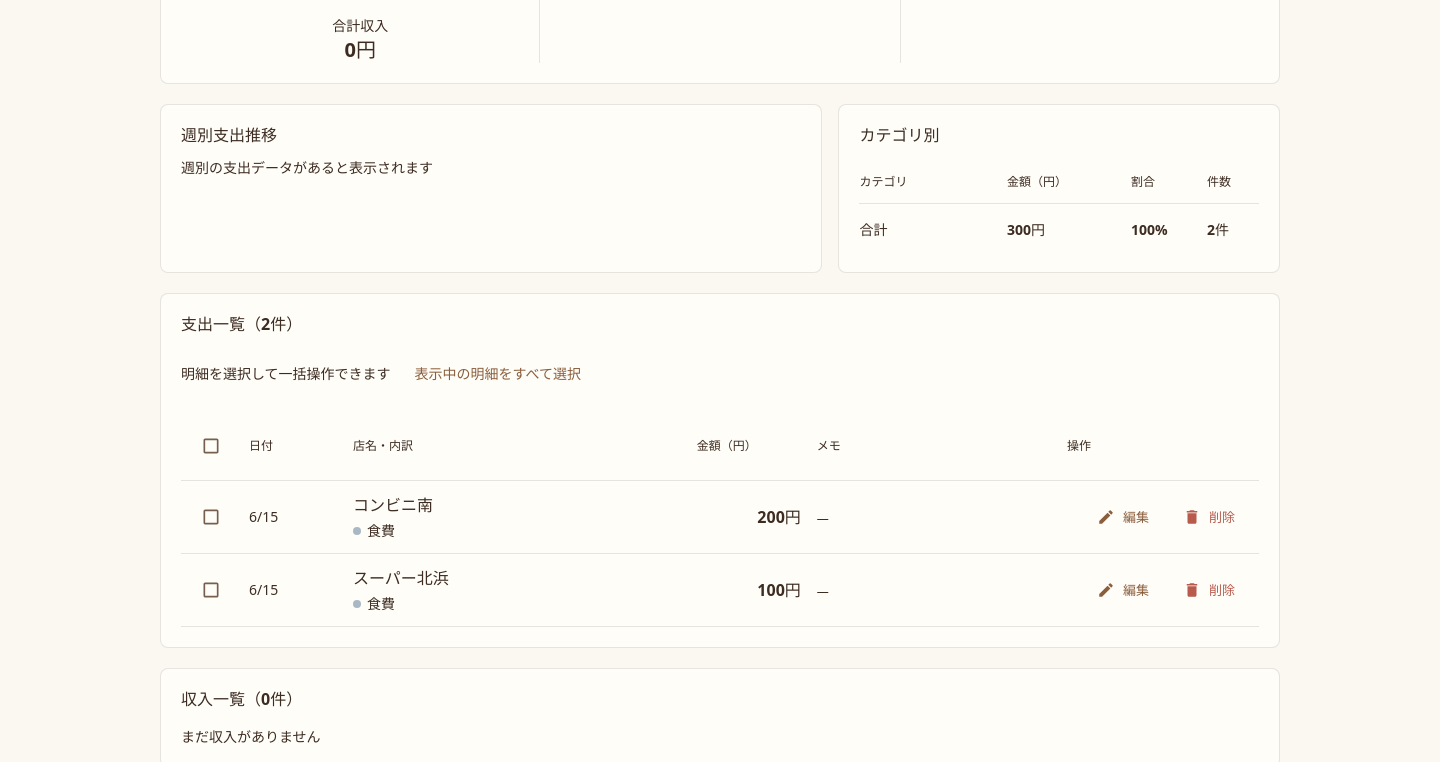
Test: SummaryPage › 削除に失敗した場合はエラーを表示する
This screenshot has width=1440, height=762.
(page scrolled)
Click the button "削除" in the row of "コンビニ南". click: (1210, 517)
box: [1169, 495, 1251, 539]
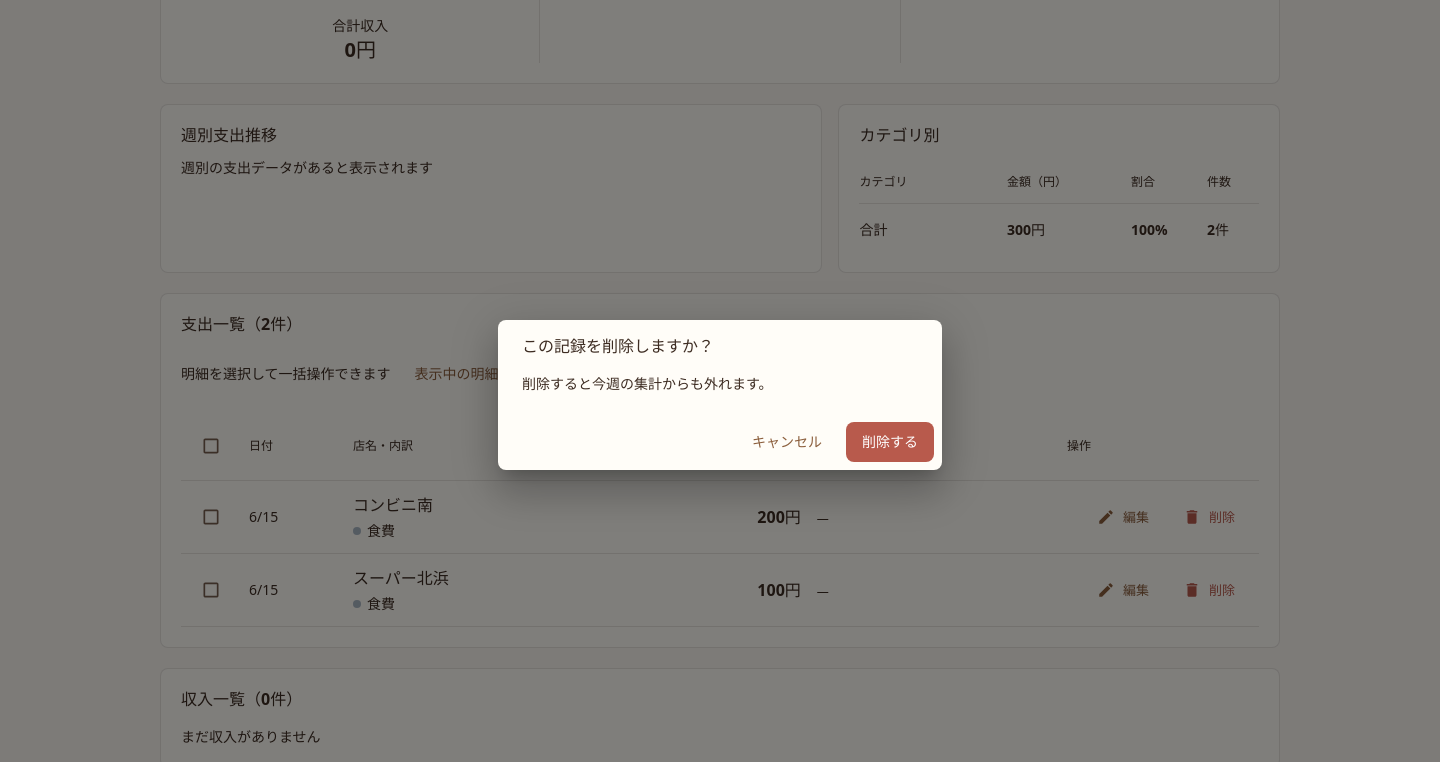
Click the button "削除する". click: (890, 442)
box: [846, 422, 934, 462]
(page scrolled)
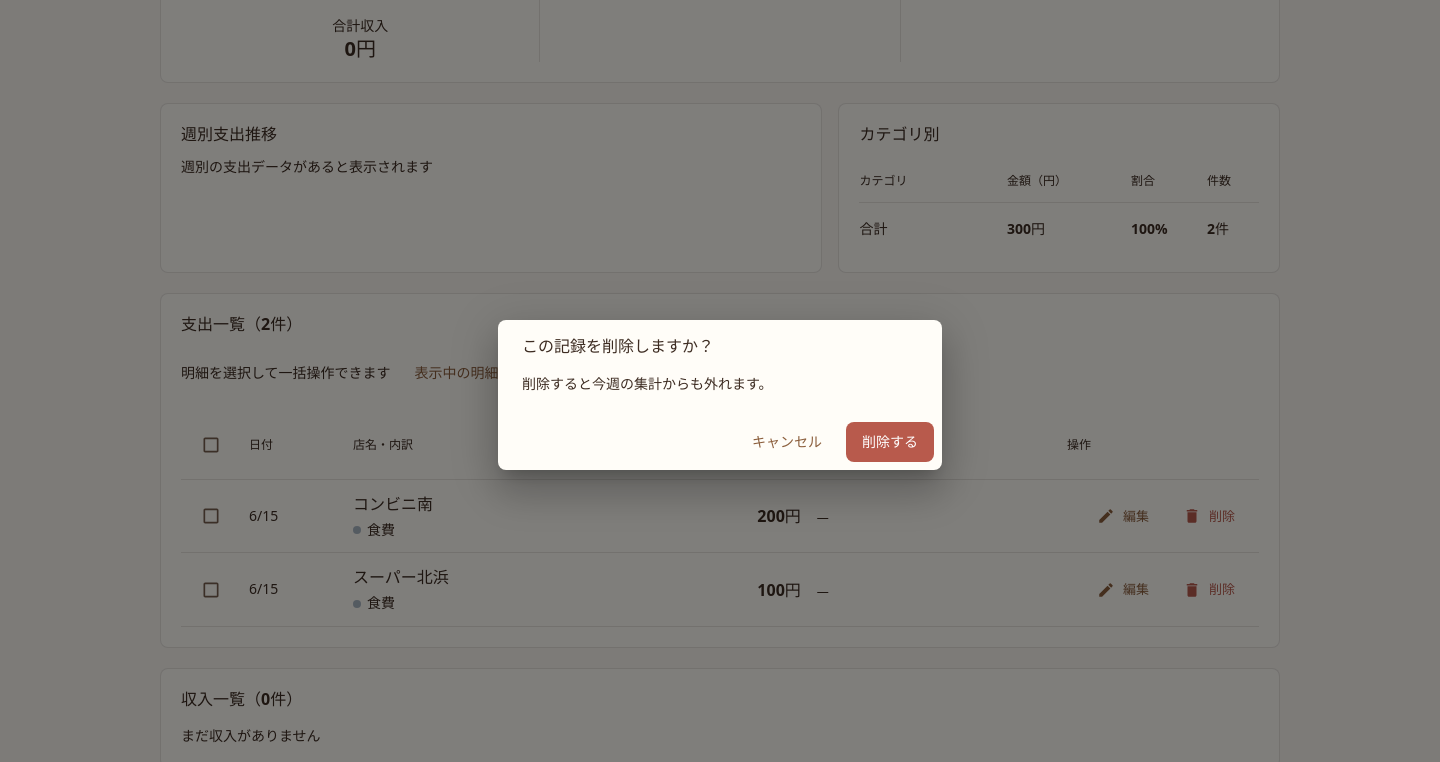
Click the button "キャンセル". click: (787, 442)
box: [736, 422, 838, 462]
(page scrolled)
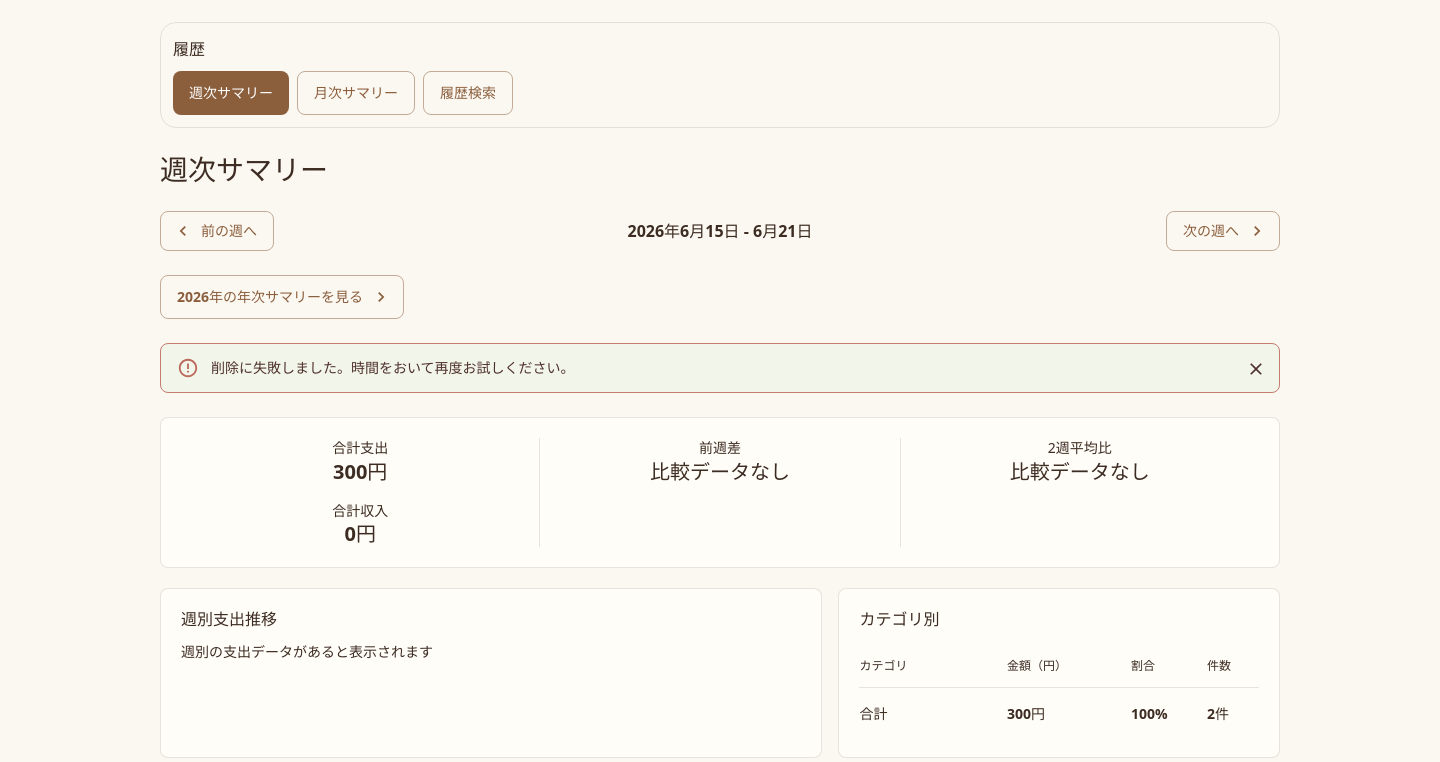
Check: the button named "Close" is shown
Check: the dialog is gone
Click the button named "Close". click: (1256, 369)
box: [1241, 354, 1271, 384]
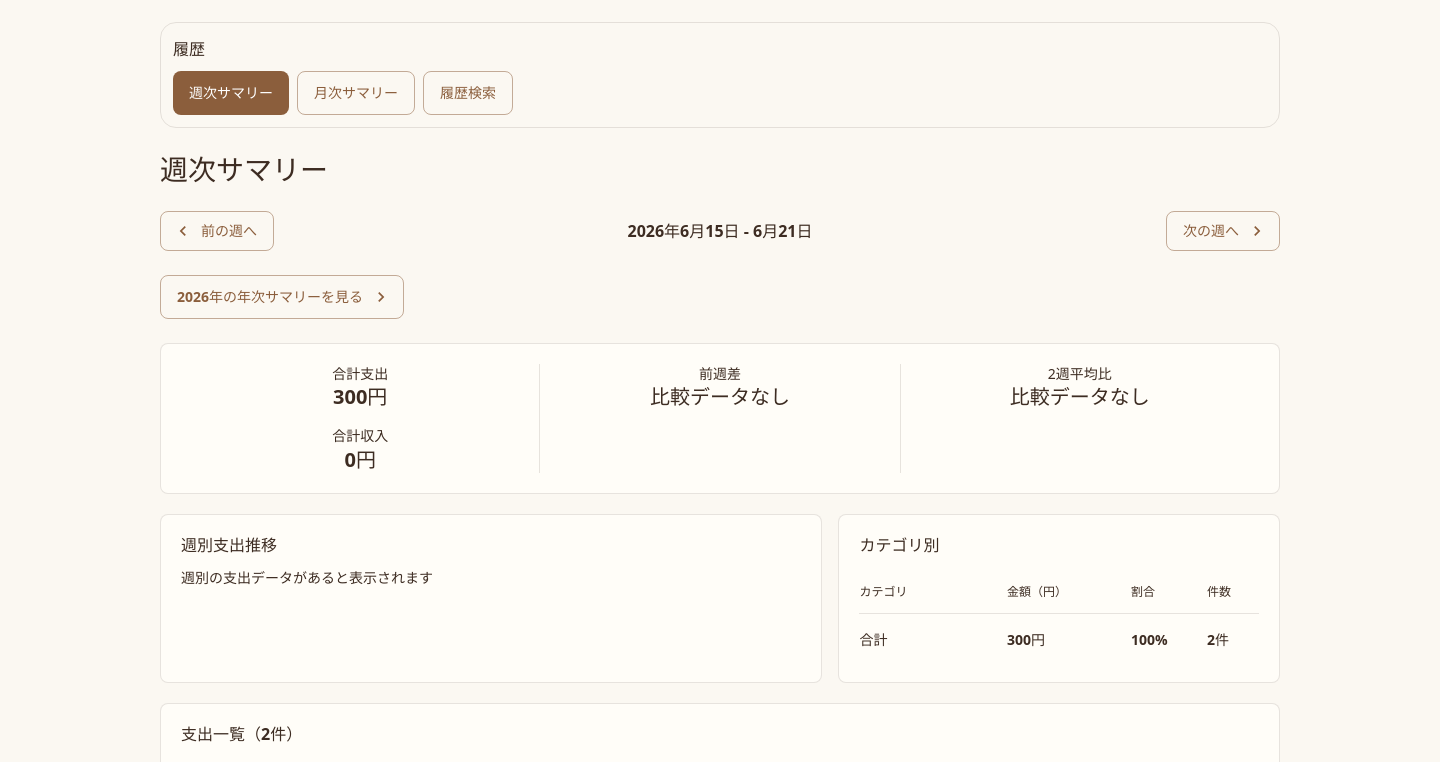
Check: the text "削除に失敗しました。時間をおいて再度お試しください。" is gone
